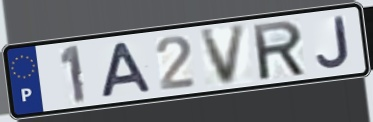1: (58, 42, 89, 106)
2: (154, 34, 196, 92)
A: (98, 40, 155, 100)
J: (314, 15, 352, 70)
R: (249, 18, 309, 83)
V: (197, 21, 250, 89)
